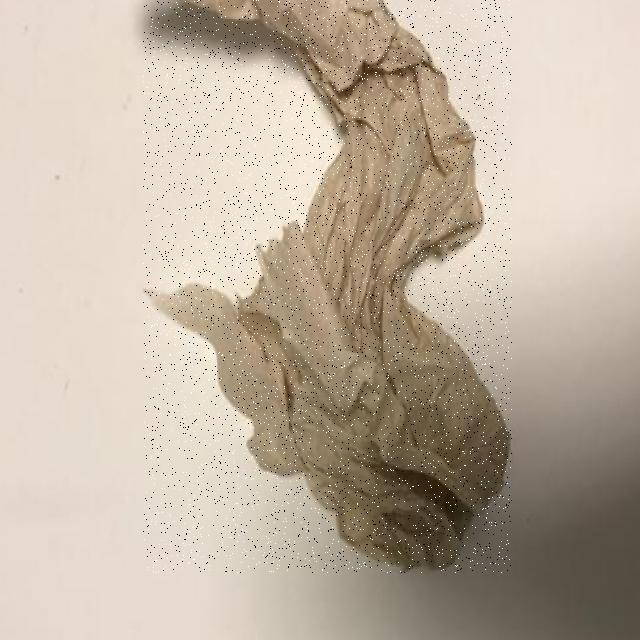paper: (144, 0, 512, 573)
